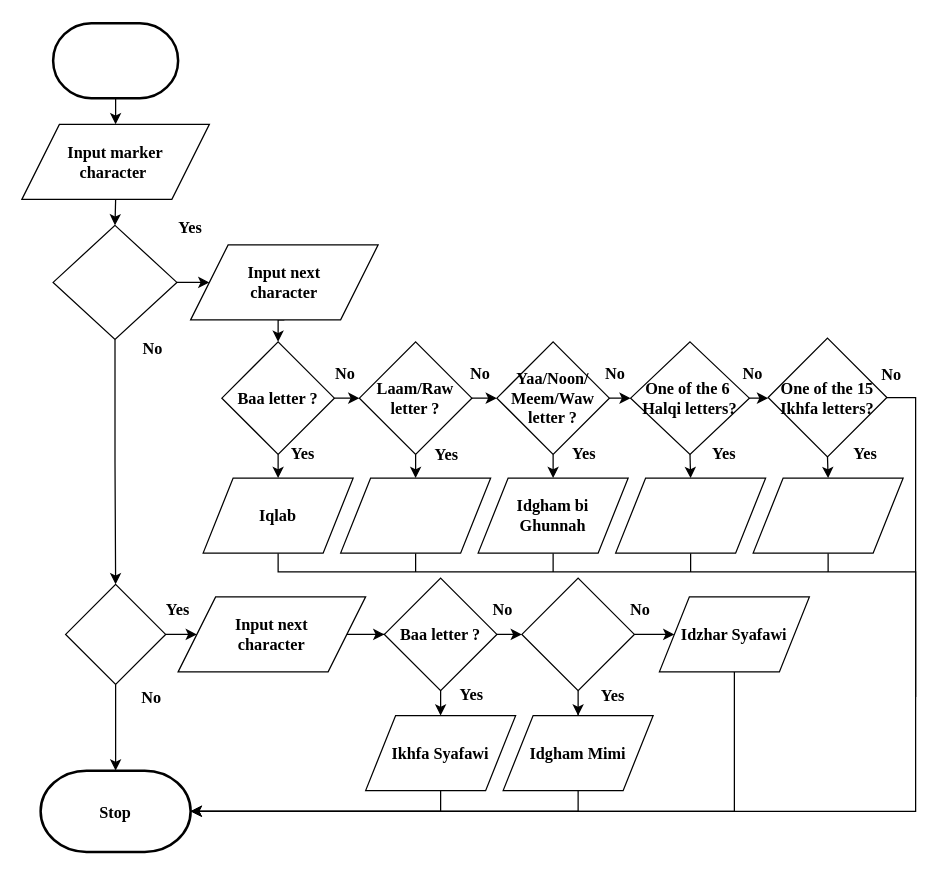
This 948x874 diagram has some shape labels left out. Here are the shapes that lost their labels. From the top down, the centre of each, then its label:
(115,60): Start
(114,281): tanween/ noon saakin?
(415,515): Idgham bila Ghunnah
(690,515): Idzhar Halqi
(827,515): Ikhfa Haqiqi
(115,633): Meem saakin ?
(577,634): Meem letter ?
